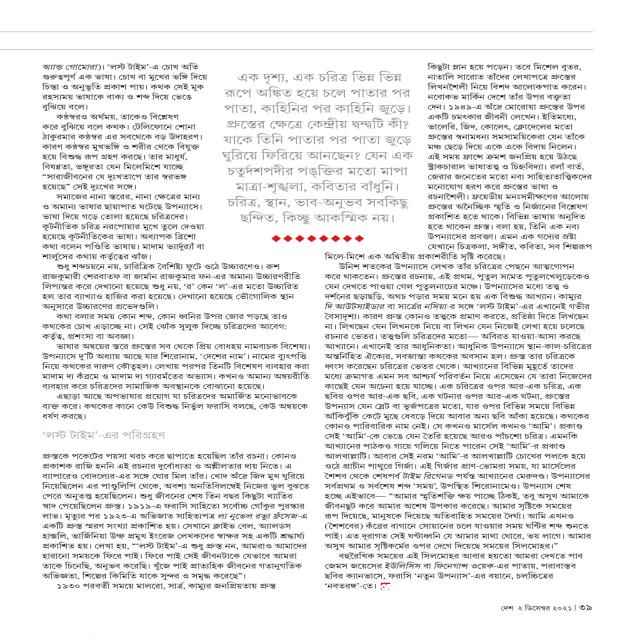image: (266, 233, 370, 245)
page number: (577, 603, 596, 612)
paragraph: (316, 258, 602, 592), (318, 57, 603, 264), (38, 449, 316, 583), (216, 68, 417, 232), (33, 340, 316, 392), (35, 108, 206, 192), (37, 258, 304, 310), (39, 190, 211, 261), (37, 60, 214, 113), (40, 390, 313, 423), (34, 309, 295, 340), (55, 578, 280, 592)
text: (39, 426, 171, 441), (498, 602, 574, 613)
